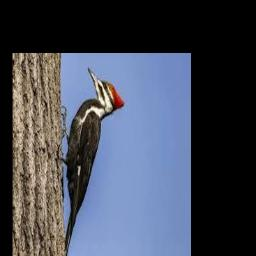Woodpecker: (61, 67, 125, 256)
